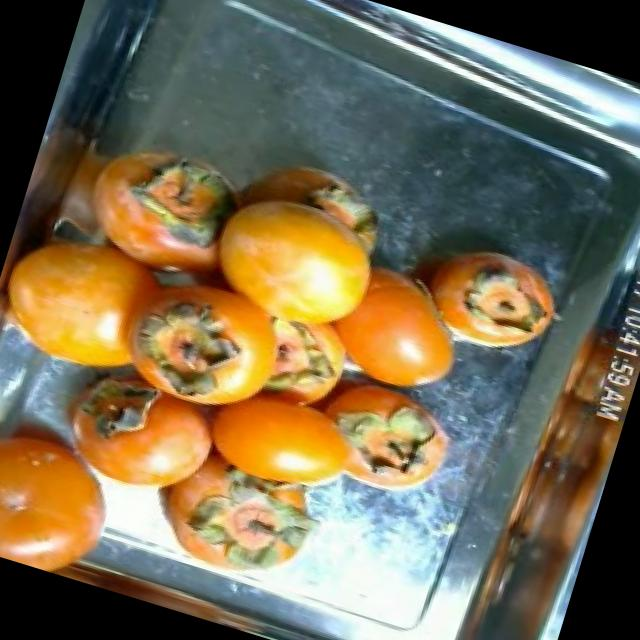Fruit: (298, 240, 491, 412), (410, 224, 576, 374)
